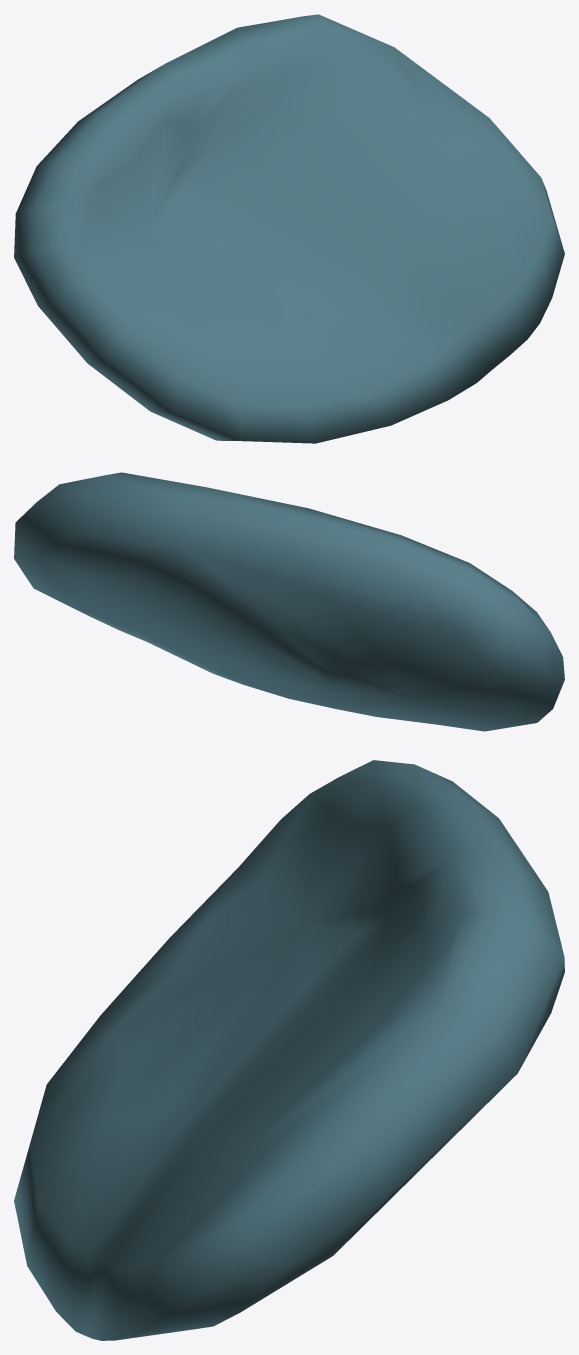
File: Flexor_digitorum_longus_3rd_distal_phalanx_left.glb
The picture shows the model from 3 angles, top to bottom: view 1: azimuth 30°, elevation 25°; view 2: azimuth 150°, elevation 25°; view 3: azimuth 270°, elevation 25°; orthographic projection. The views are drawn at different scales.
Parts seen in each view (by area): view 1: Flexor_digitorum_longus_on_3d_distal_phalanx.l_Generated_Mes; view 2: Flexor_digitorum_longus_on_3d_distal_phalanx.l_Generated_Mes; view 3: Flexor_digitorum_longus_on_3d_distal_phalanx.l_Generated_Mes.
Boxes of the visible parts, x1,y1,x2,y2 form: Flexor_digitorum_longus_on_3d_distal_phalanx.l_Generated_Mes: (14, 14, 564, 443); Flexor_digitorum_longus_on_3d_distal_phalanx.l_Generated_Mes: (14, 472, 564, 731); Flexor_digitorum_longus_on_3d_distal_phalanx.l_Generated_Mes: (14, 760, 564, 1340).
Bounding box in the file's own units: 0.00323 × 0.00176 × 0.00205.
